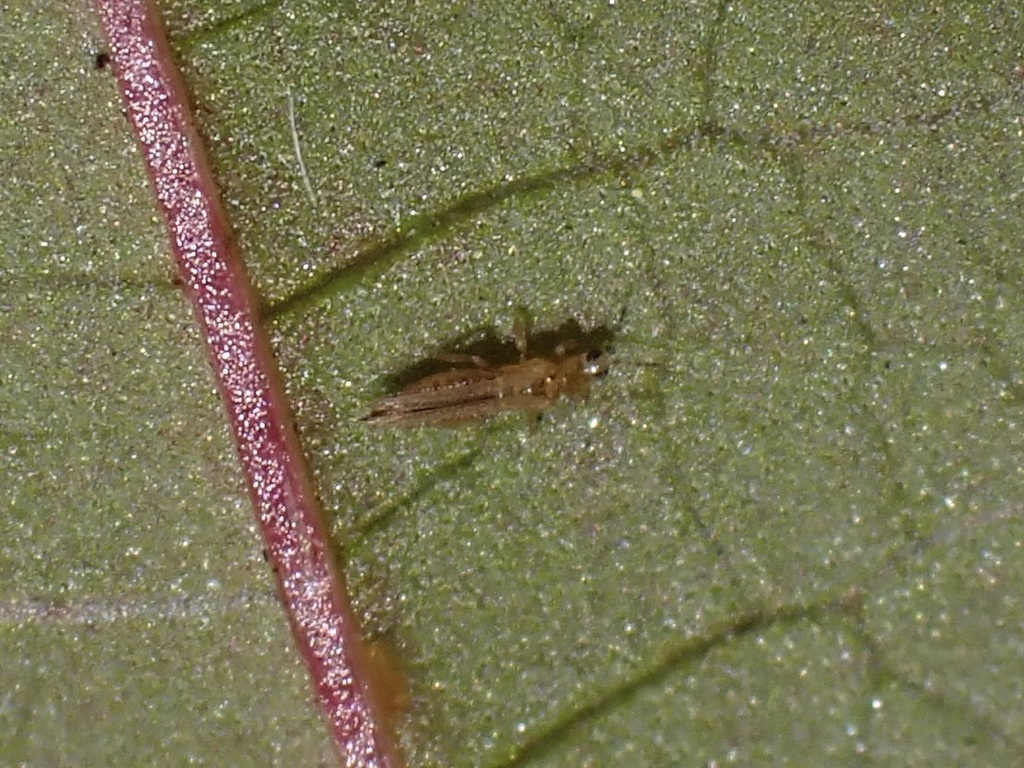tiny_pests: (326, 274, 677, 482)
